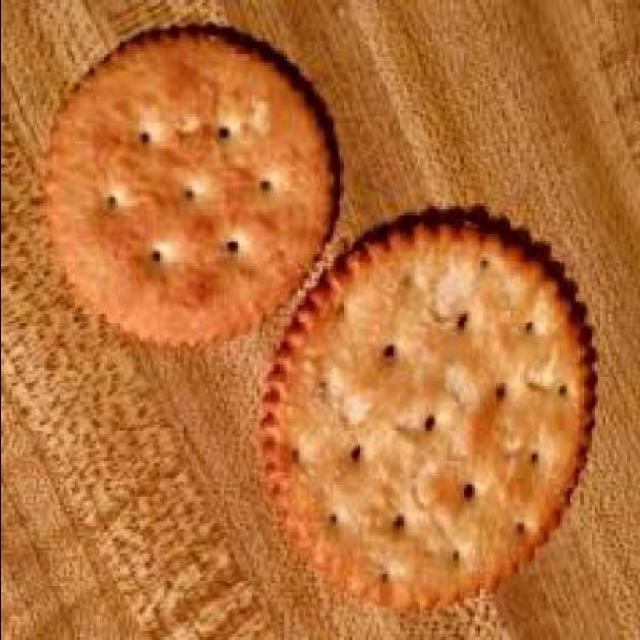Ritz cracker packaged: (41, 18, 596, 614)
